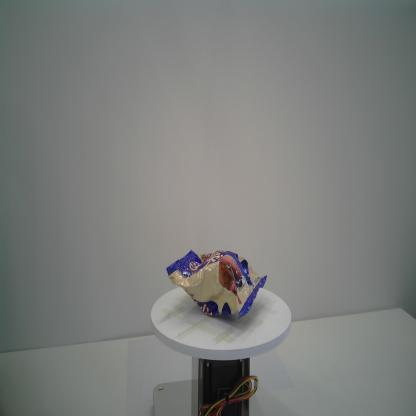Dessert: (165, 247, 270, 323)
